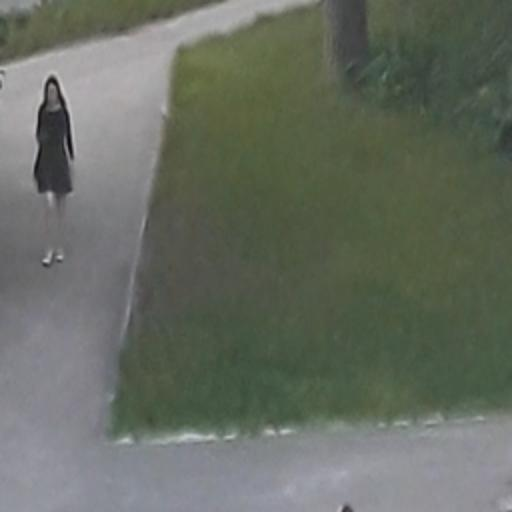Humans: (22, 64, 96, 287)
